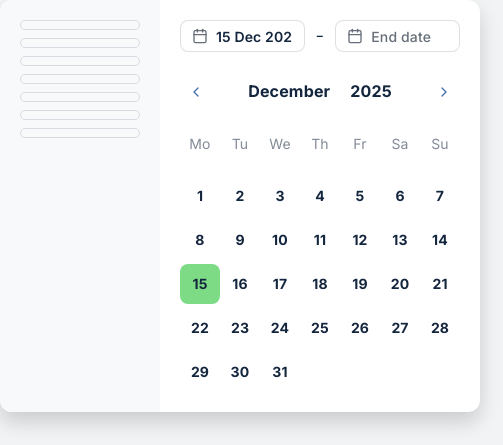
Test: DatePicker › wraps to next year when navigating from December to January
Expected: the text "December" is shown, [248,82,330,102]
Expected: the text "2025" is shown, [350,82,392,102]
Click the button named "Next month": click(444, 92) [428,76,460,108]
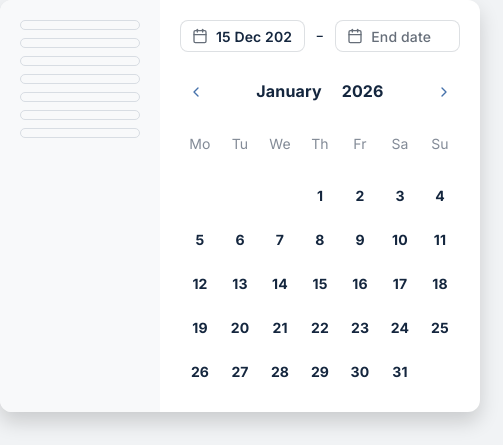
Expected: the text "January" is shown, [256,82,322,102]
Expected: the text "2026" is shown, [342,82,384,102]
